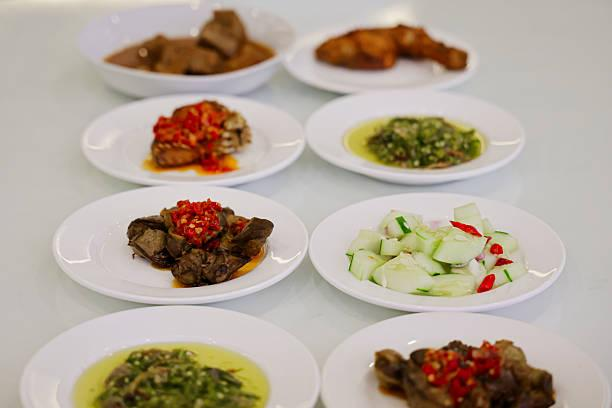Braised Crucian Carp: (306, 192, 563, 312), (51, 182, 306, 302), (19, 304, 314, 406), (319, 311, 607, 406), (79, 93, 302, 187), (305, 88, 524, 183), (77, 2, 293, 97), (284, 21, 478, 95)
